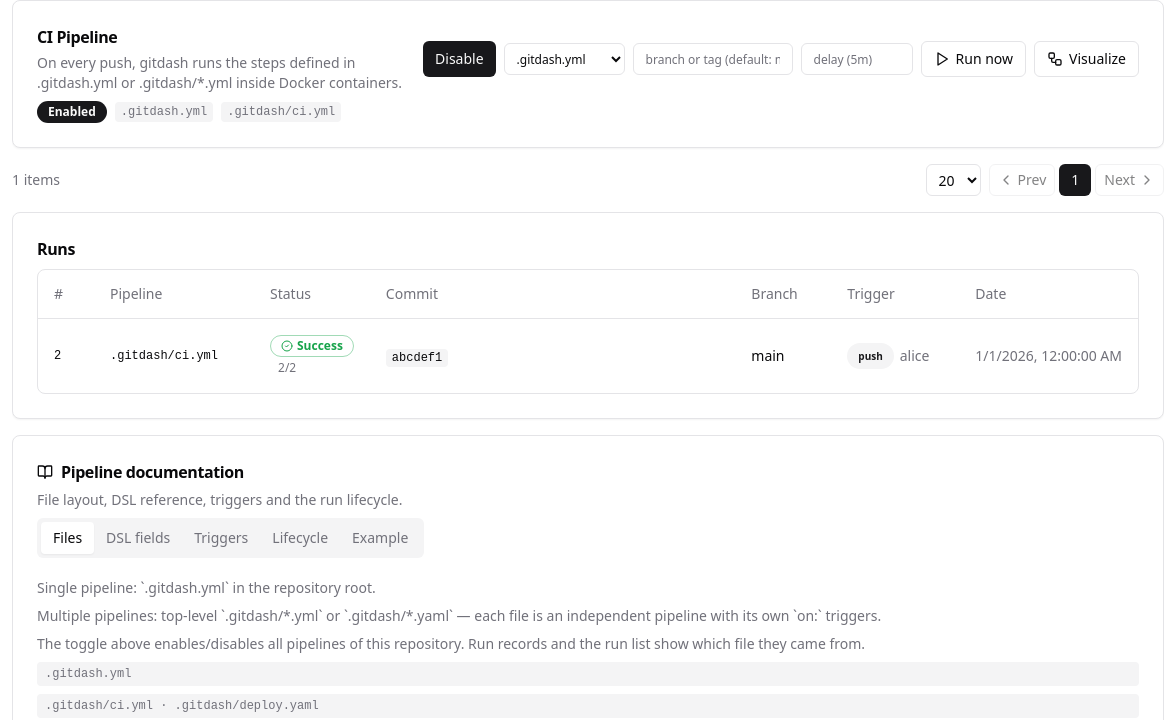
Test case: RepoPipeline multi-file › renders the pipeline documentation tabs
Expected: the table is shown, [38,270,1138,392]
Expected: the text "Pipeline documentation" is shown, [37,460,244,482]
Click the tab "DSL fields" at (138, 538), box [94,522,182,554]
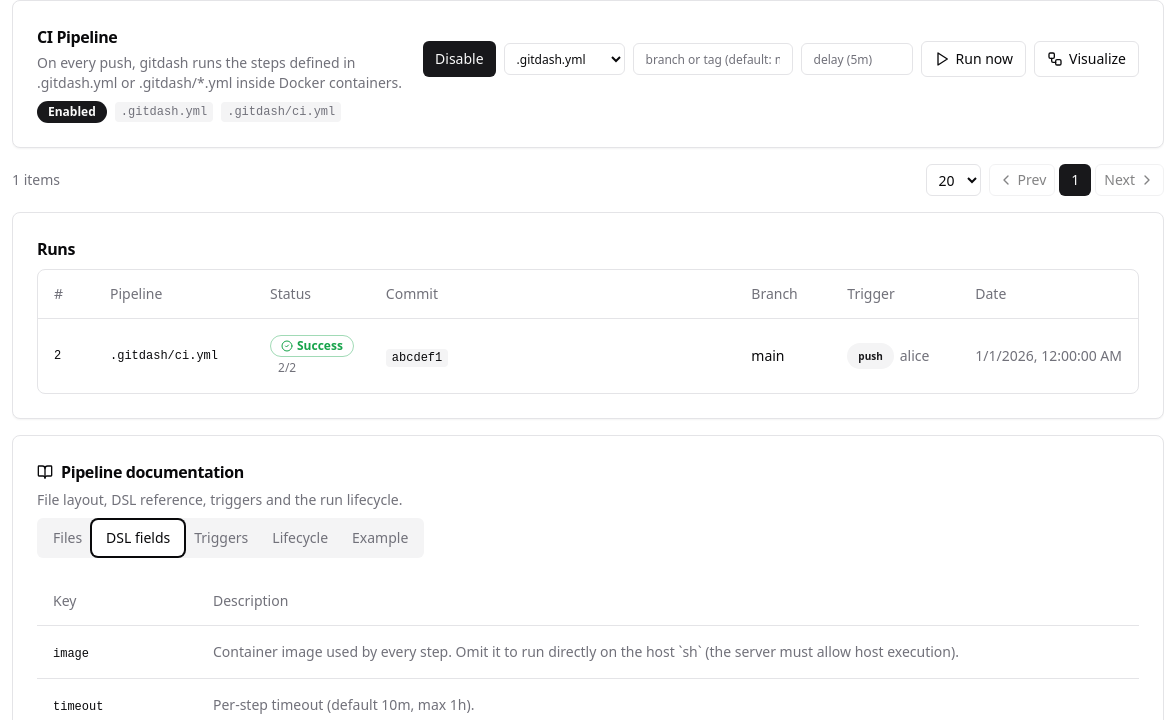
Click the tab "Lifecycle" at (300, 538), box [260,522,340,554]
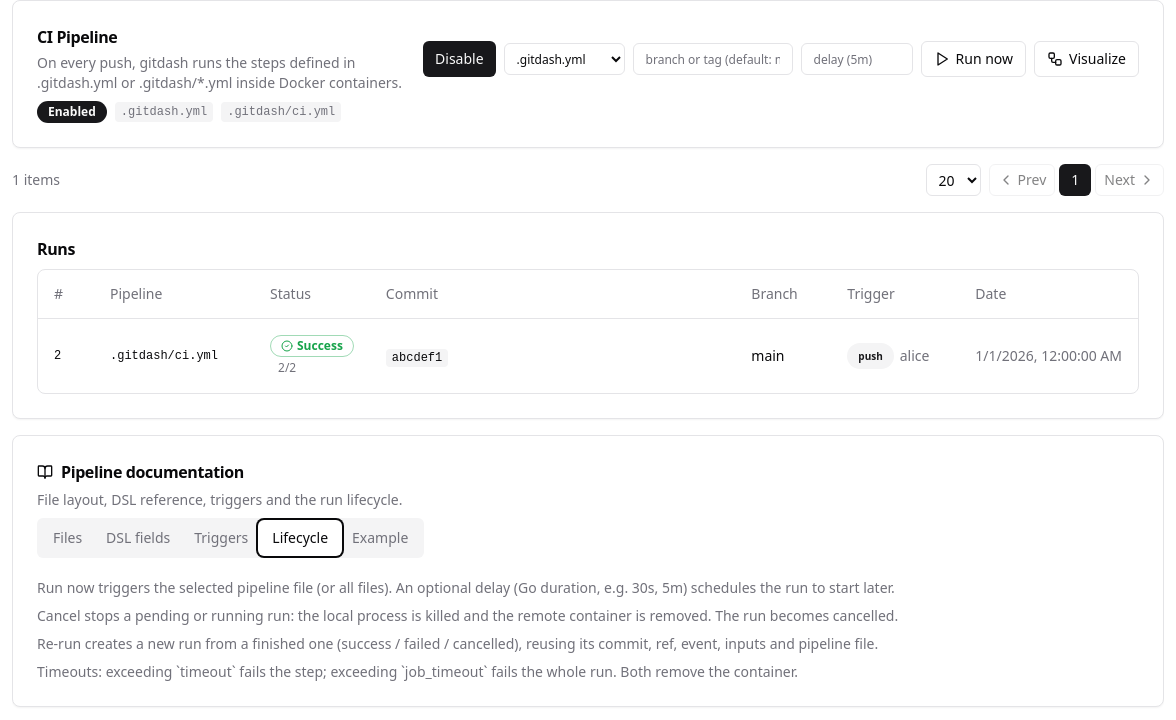
Now the text "Cancel stops" is shown, box [37,606,898,624]
